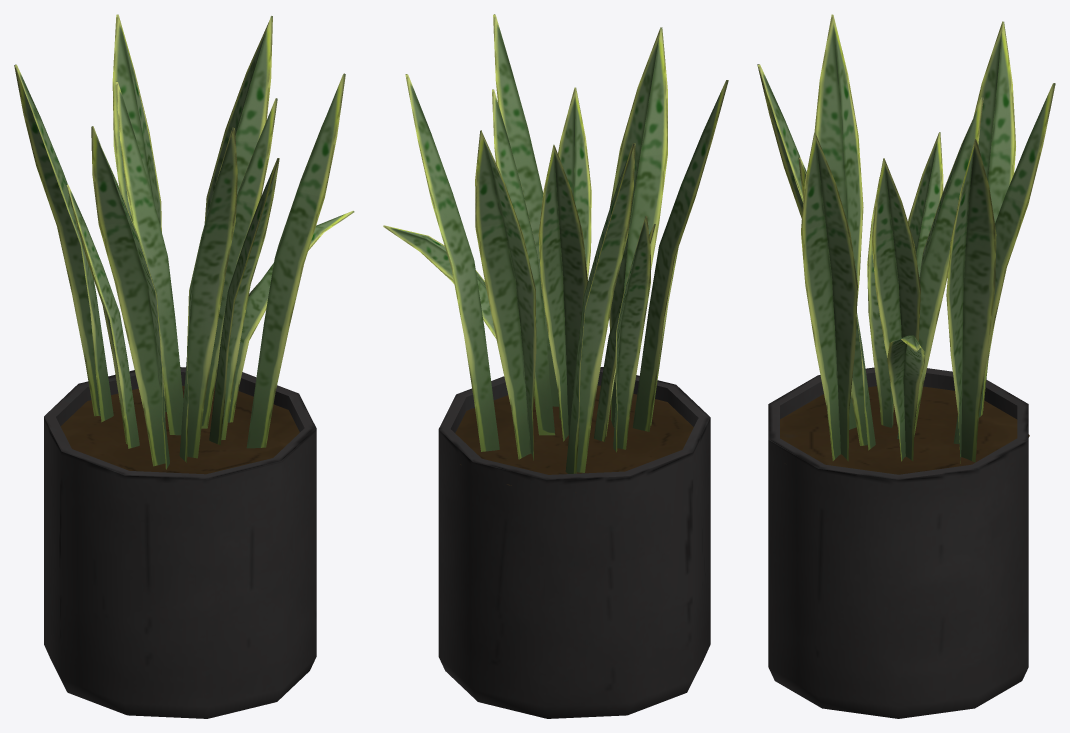
File: Plant.fbx
3 views of the same model, side by side, from view 1: azimuth 30°, elevation 25°; view 2: azimuth 150°, elevation 25°; view 3: azimuth 270°, elevation 25° (orthographic).
Parts seen in each view (by area): view 1: Plant; view 2: Plant; view 3: Plant.
Boxes of the visible parts, <box> form: Plant: <box>14,14,354,718</box>; Plant: <box>383,14,728,718</box>; Plant: <box>757,14,1055,718</box>.
Bounding box in the file's own units: 66.68 × 124 × 56.65.
